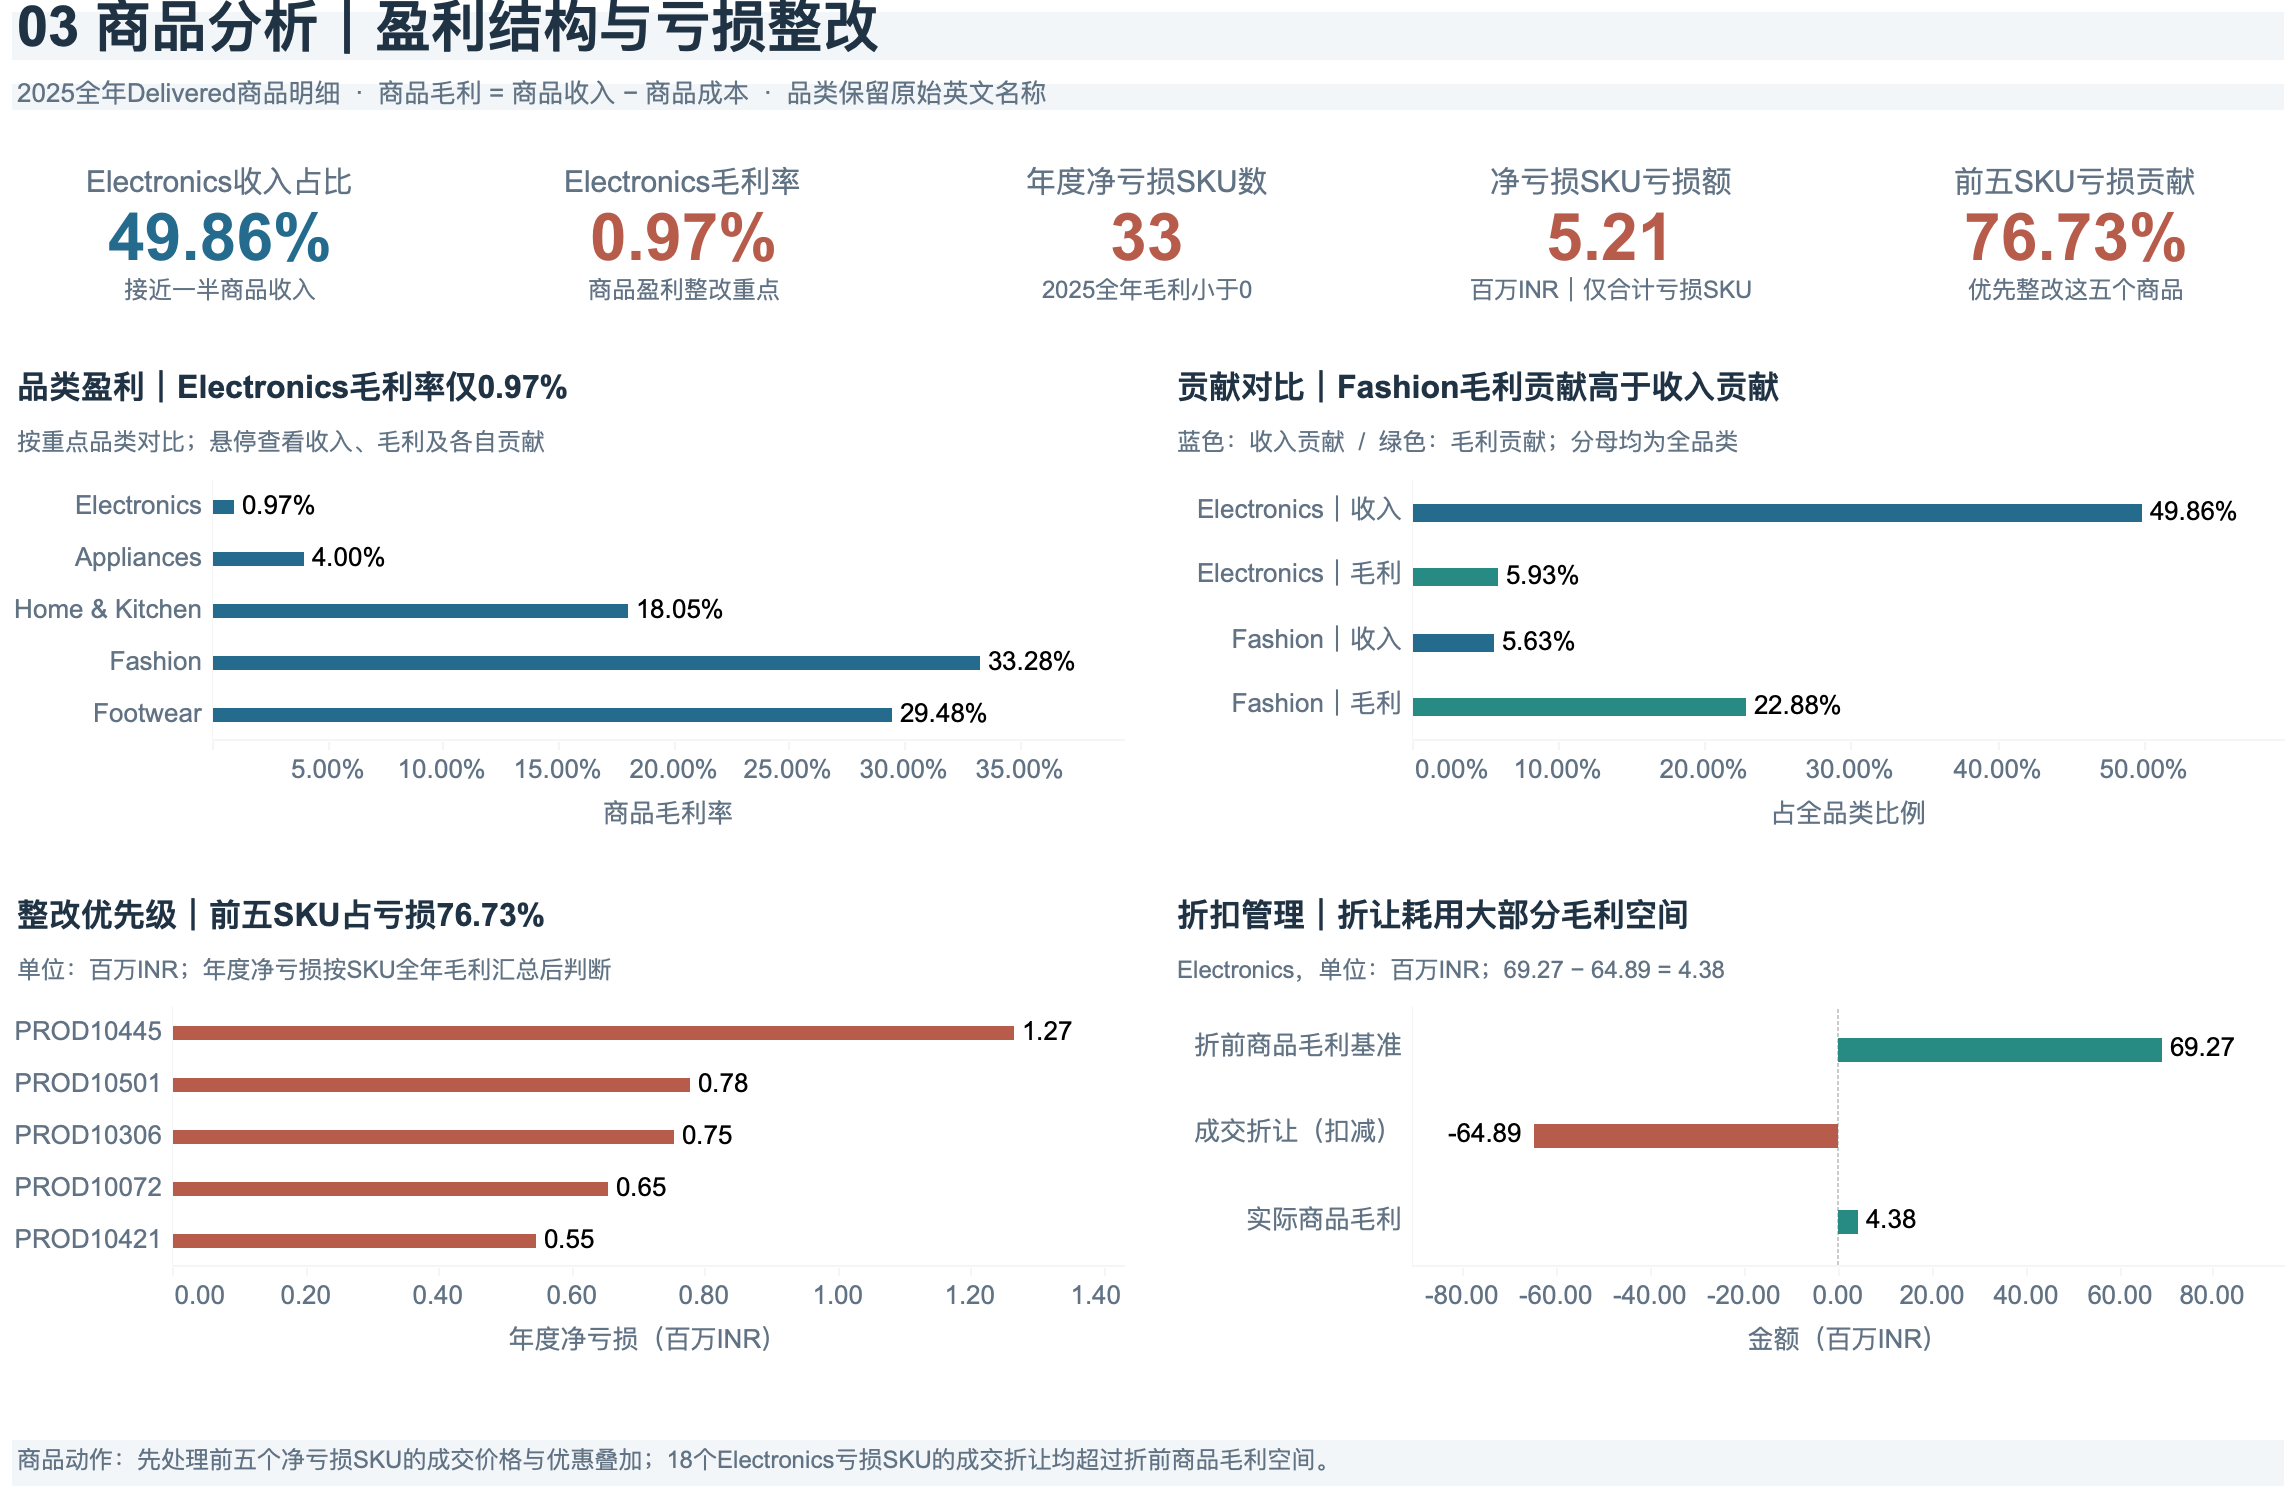

What the dashboard file says about the page in this screenshot:
{"tool":"tableau","page":{"name":"03 商品分析｜盈利结构与亏损整改","canvas":[1440,960],"ordinal":2},"visuals":[{"type":"text","box":[0,0,1440,45.5]},{"type":"text","box":[0,45.5,1440,32.4]},{"type":"worksheet","title":"商品KPI_share","mark":"Text","box":[0,88.7,276.1,125.8]},{"type":"worksheet","title":"商品KPI_margin","mark":"Text","box":[291,88.7,276.1,125.8]},{"type":"worksheet","title":"商品KPI_count","mark":"Text","box":[581.9,88.7,276.1,125.8]},{"type":"worksheet","title":"商品KPI_loss_m","mark":"Text","box":[872.9,88.7,276.1,125.8]},{"type":"worksheet","title":"商品KPI_top5","mark":"Text","box":[1163.9,88.7,276.1,125.8]},{"type":"text","box":[0,232.5,712.6,39.6]},{"type":"text","box":[727.4,232.5,712.6,39.6]},{"type":"text","box":[0,272.1,712.6,27.6]},{"type":"text","box":[727.4,272.1,712.6,27.6]},{"type":"worksheet","title":"品类盈利｜Electronics毛利率仅0.97%","mark":"Bar","rows":["category"],"cols":["margin"],"box":[0,299.6,712.6,252.9]},{"type":"worksheet","title":"贡献对比｜Fashion毛利贡献高于收入贡献","mark":"Bar","rows":["group"],"cols":["share"],"box":[727.4,299.6,712.6,252.9]},{"type":"text","box":[0,570.5,712.6,39.6]},{"type":"text","box":[727.4,570.5,712.6,39.6]},{"type":"text","box":[0,610,712.6,27.6]},{"type":"text","box":[727.4,610,712.6,27.6]},{"type":"worksheet","title":"整改优先级｜前五SKU占亏损76.73%","mark":"Bar","rows":["product_id"],"cols":["loss_m"],"box":[0,637.6,712.6,252.9]},{"type":"worksheet","title":"折扣管理｜折让耗用大部分毛利空间","mark":"Bar","rows":["item"],"cols":["value_m"],"box":[727.4,637.6,712.6,252.9]},{"type":"text","box":[0,915.6,1440,44.4]}]}

Visuals, with their boxes in screenshot pixels (x1, y1, x2, y2), scaled from the page's 1440x960 canvas onto the 2296x1498 screenshot:
text: [x1=0, y1=0, x2=2295, y2=71]
text: [x1=0, y1=71, x2=2295, y2=122]
"商品KPI_share" worksheet (Text marks): [x1=0, y1=138, x2=440, y2=335]
"商品KPI_margin" worksheet (Text marks): [x1=464, y1=138, x2=904, y2=335]
"商品KPI_count" worksheet (Text marks): [x1=928, y1=138, x2=1368, y2=335]
"商品KPI_loss_m" worksheet (Text marks): [x1=1392, y1=138, x2=1832, y2=335]
"商品KPI_top5" worksheet (Text marks): [x1=1856, y1=138, x2=2295, y2=335]
text: [x1=0, y1=363, x2=1136, y2=425]
text: [x1=1160, y1=363, x2=2295, y2=425]
text: [x1=0, y1=425, x2=1136, y2=468]
text: [x1=1160, y1=425, x2=2295, y2=468]
"品类盈利｜Electronics毛利率仅0.97%" worksheet (Bar marks): [x1=0, y1=468, x2=1136, y2=862]
"贡献对比｜Fashion毛利贡献高于收入贡献" worksheet (Bar marks): [x1=1160, y1=468, x2=2295, y2=862]
text: [x1=0, y1=890, x2=1136, y2=952]
text: [x1=1160, y1=890, x2=2295, y2=952]
text: [x1=0, y1=952, x2=1136, y2=995]
text: [x1=1160, y1=952, x2=2295, y2=995]
"整改优先级｜前五SKU占亏损76.73%" worksheet (Bar marks): [x1=0, y1=995, x2=1136, y2=1390]
"折扣管理｜折让耗用大部分毛利空间" worksheet (Bar marks): [x1=1160, y1=995, x2=2295, y2=1390]
text: [x1=0, y1=1429, x2=2295, y2=1497]
